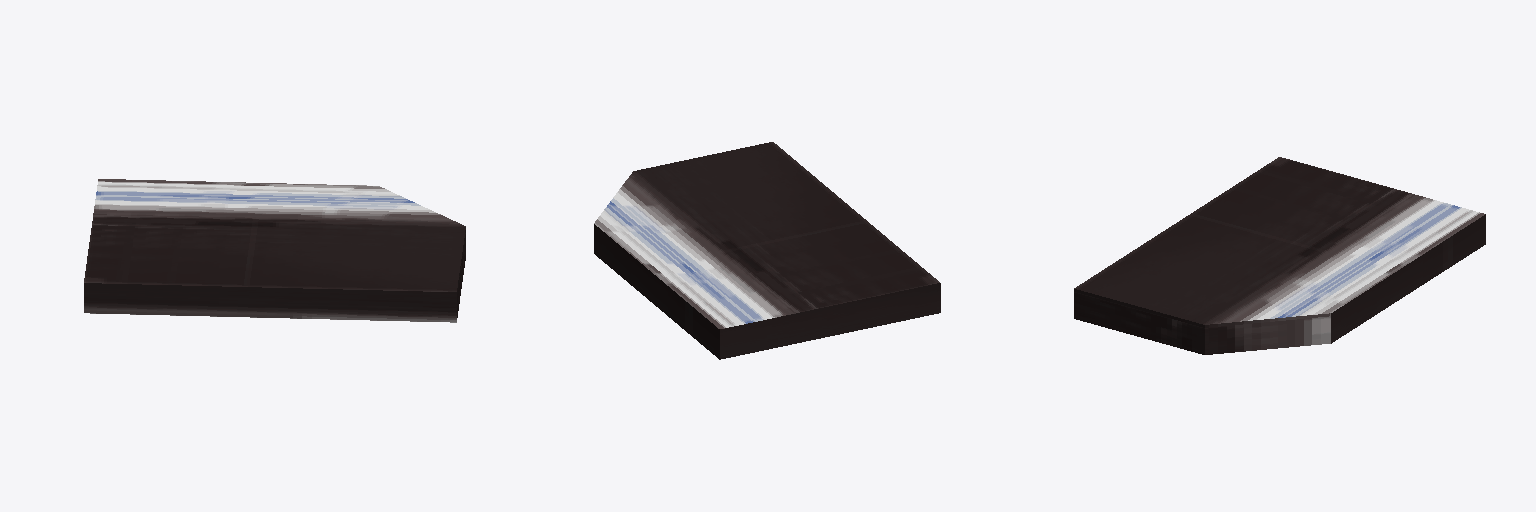
3 renders of one model, left to right at view 1: azimuth 30°, elevation 25°; view 2: azimuth 150°, elevation 25°; view 3: azimuth 270°, elevation 25°, orthographic.
Parts seen in each view (by area): view 1: keycard; view 2: keycard; view 3: keycard.
Part boxes in pixels (bbox=[...]): keycard: bbox=[84, 179, 465, 322]; keycard: bbox=[594, 142, 940, 359]; keycard: bbox=[1074, 157, 1485, 354].
Size of the model in its own units: 1.28 by 0.1076 by 1.32.
1 materials, 1 textured.